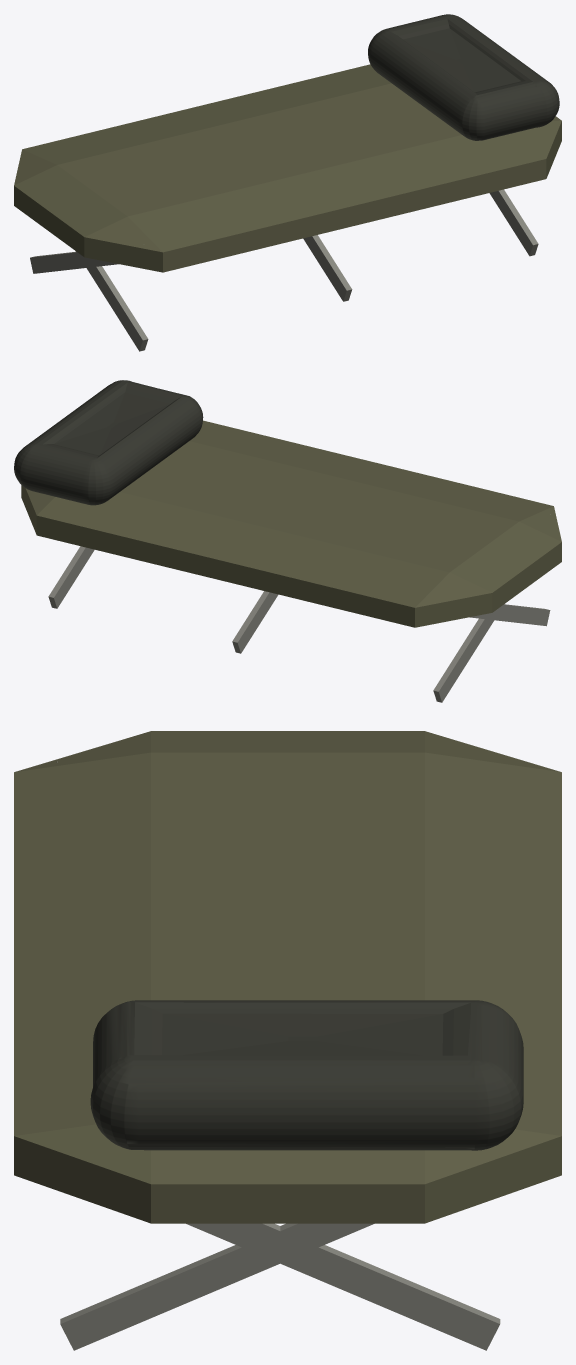
File: Bed.fbx
3 renders of one model, top to bottom at view 1: azimuth 30°, elevation 25°; view 2: azimuth 150°, elevation 25°; view 3: azimuth 270°, elevation 25°, orthographic. The views are drawn at different scales.
Visible parts, largest first — view 1: polySurface3396; view 2: polySurface3396; view 3: polySurface3396.
Boxes of the visible parts, x1,y1,x2,y2 form: polySurface3396: (14,14,561,351); polySurface3396: (14,380,561,702); polySurface3396: (14,731,561,1350).
Size of the model in its own units: 488 by 155 by 249.
